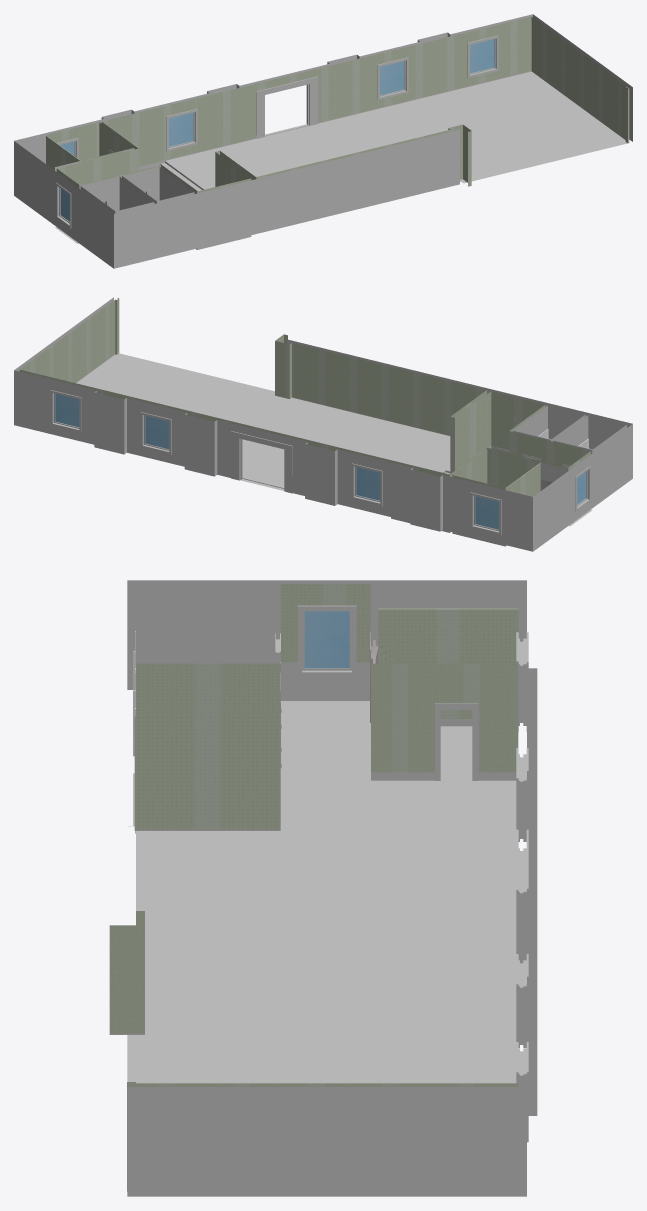
Rendered from FloorFirst_A2.fbx.
The picture shows the model from 3 angles, top to bottom: view 1: azimuth 30°, elevation 25°; view 2: azimuth 150°, elevation 25°; view 3: azimuth 270°, elevation 25°; orthographic projection. The views are drawn at different scales.
Parts seen in each view (by area): view 1: Floor_00_A (3); view 2: Floor_00_A (3); view 3: Floor_00_A (3).
Part boxes in pixels (x1,y1,x2,y2): Floor_00_A (3): [14, 14, 632, 268]; Floor_00_A (3): [14, 297, 632, 551]; Floor_00_A (3): [109, 580, 537, 1196].
Bounding box in the file's own units: 3452 × 373 × 1231.
